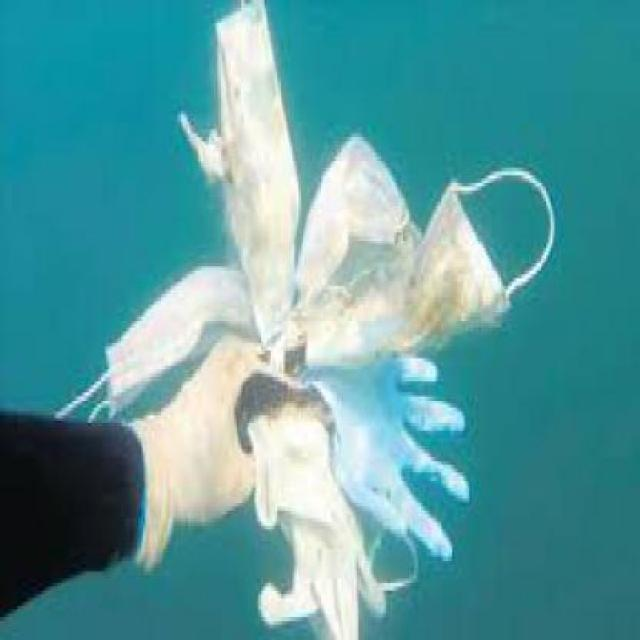B3: (41, 263, 264, 419), (204, 0, 298, 351), (298, 293, 542, 355)
